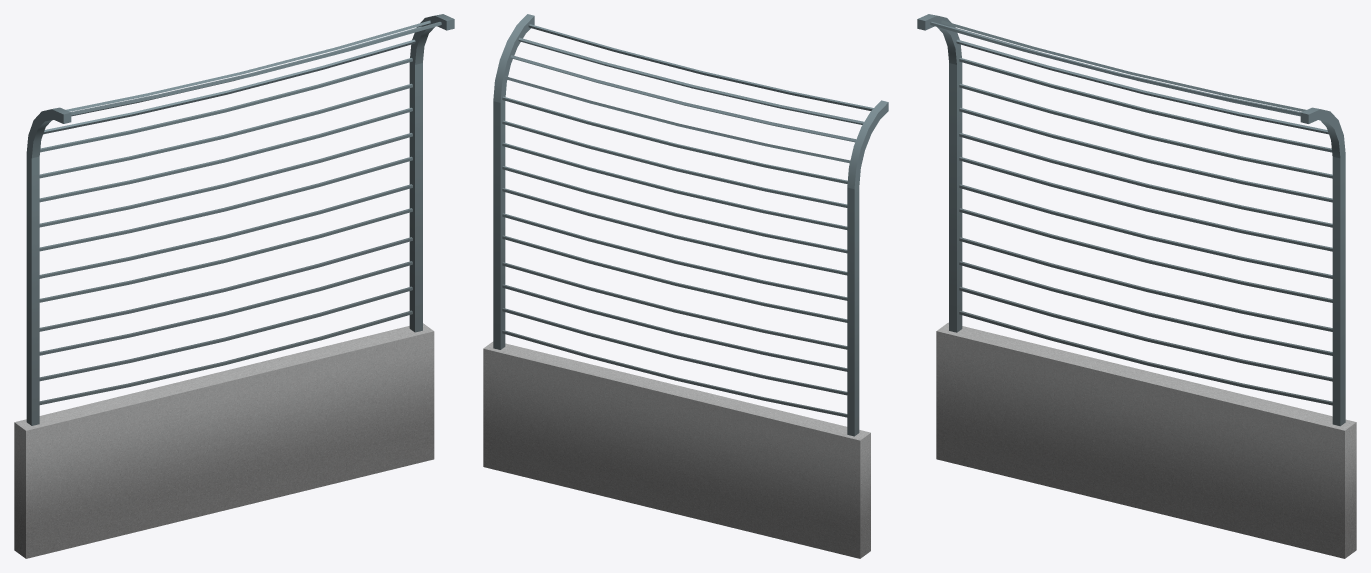
Rendered from prop_wall_A.FBX.
3 renders of one model, left to right at view 1: azimuth 30°, elevation 25°; view 2: azimuth 150°, elevation 25°; view 3: azimuth 330°, elevation 25°, orthographic. The views are drawn at different scales.
Parts seen in each view (by area): view 1: wall_a; view 2: wall_a; view 3: wall_a.
Part boxes in pixels (x1=…): wall_a: x1=14, y1=14, x2=454, y2=558; wall_a: x1=483, y1=14, x2=888, y2=558; wall_a: x1=917, y1=14, x2=1356, y2=558.
Size of the model in its own units: 157 by 171 by 26.79.
